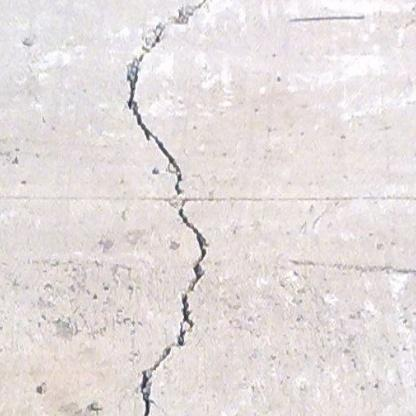Cracks: (123, 0, 221, 199), (134, 204, 213, 416)
